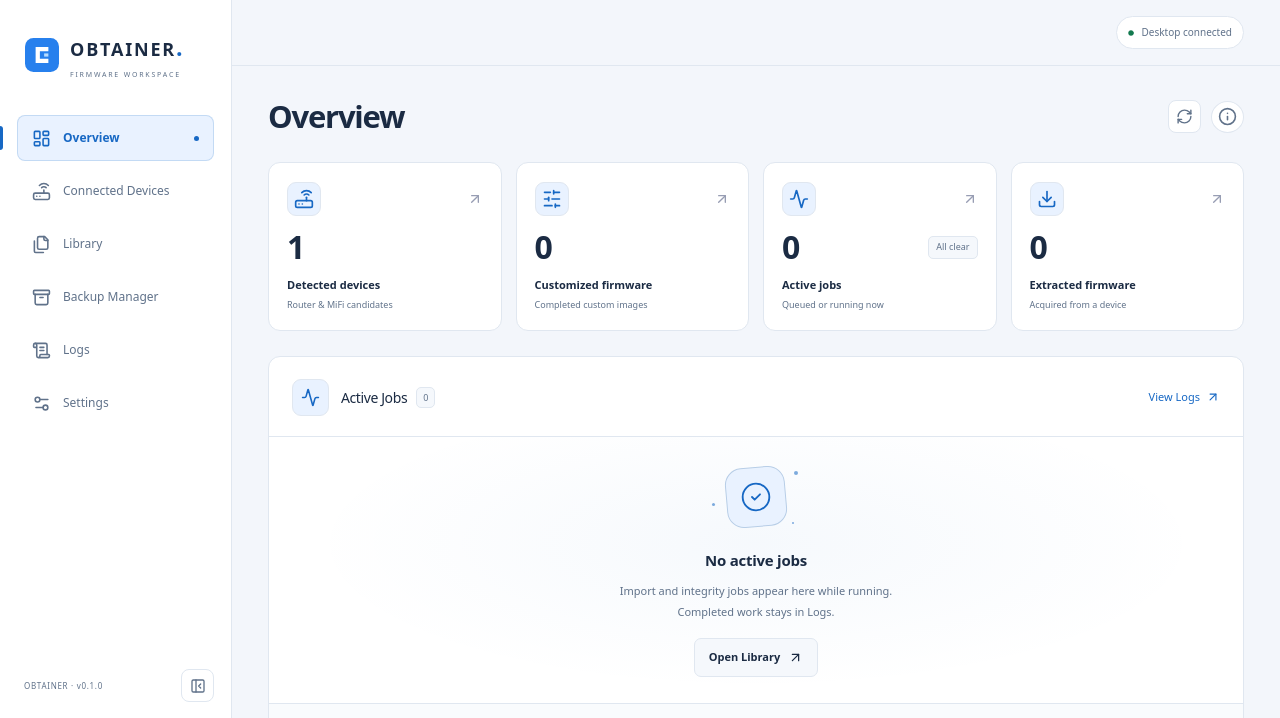
Test case: opens contextual help from Library
The width and height of the screenshot is (1280, 718).
Check: the text "Desktop connected" is shown, box [1142,25,1232,40]
Click the link "Library" at point(67, 244), box [32,234,102,254]
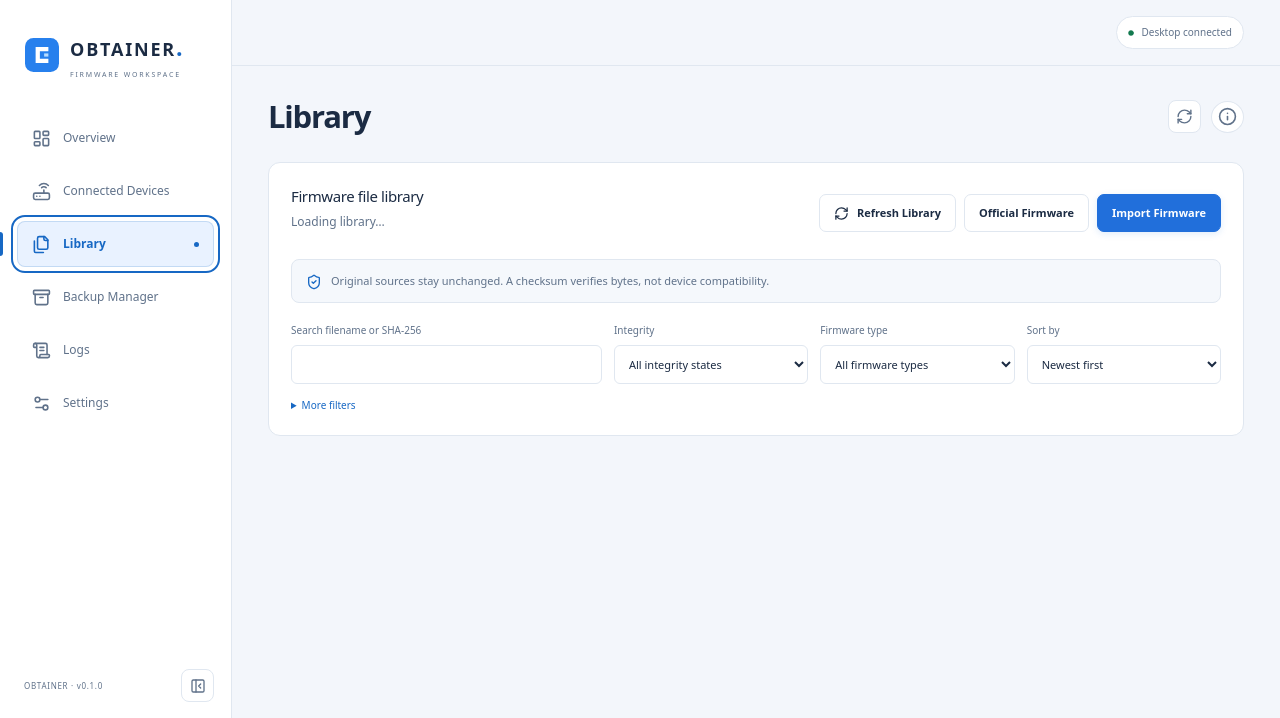
Check: the link "Library" is marked as current, box [17,221,214,267]
Click the button named "How to use this page" at point(1228, 117), box [1211,101,1244,133]
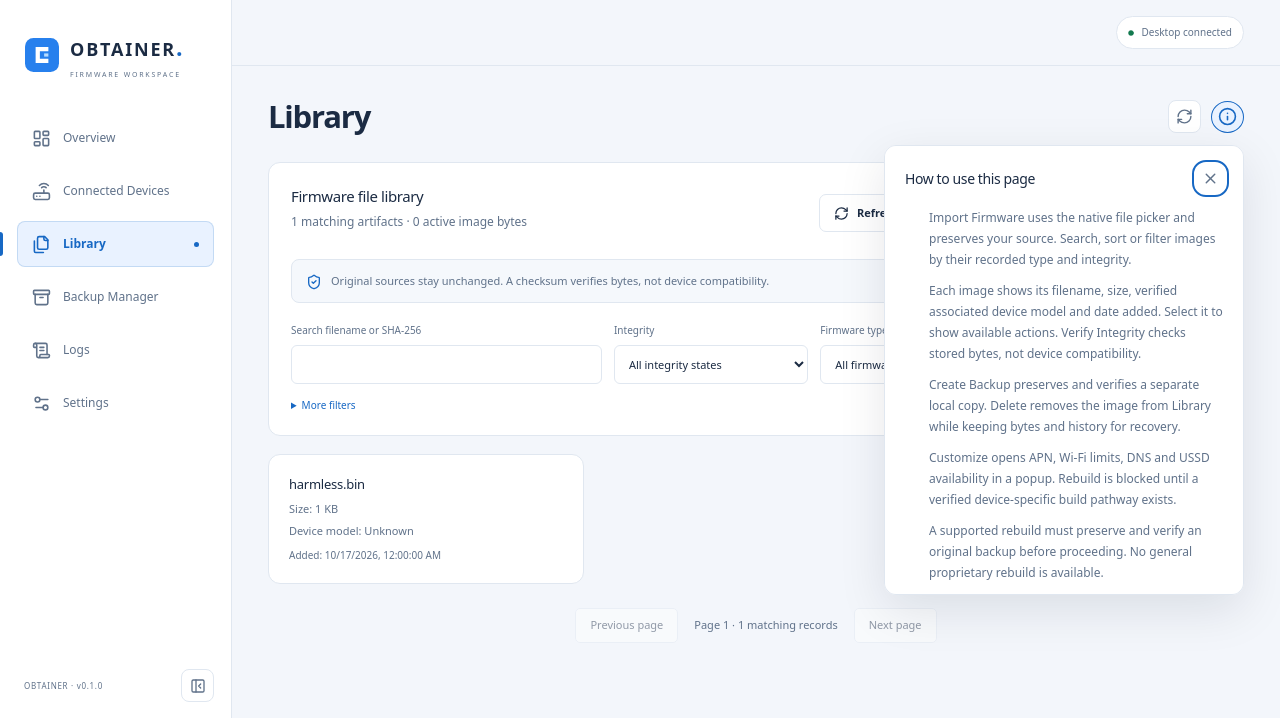
Check: the dialog "How to use this page" is shown, box [884,145,1244,595]
Press Escape
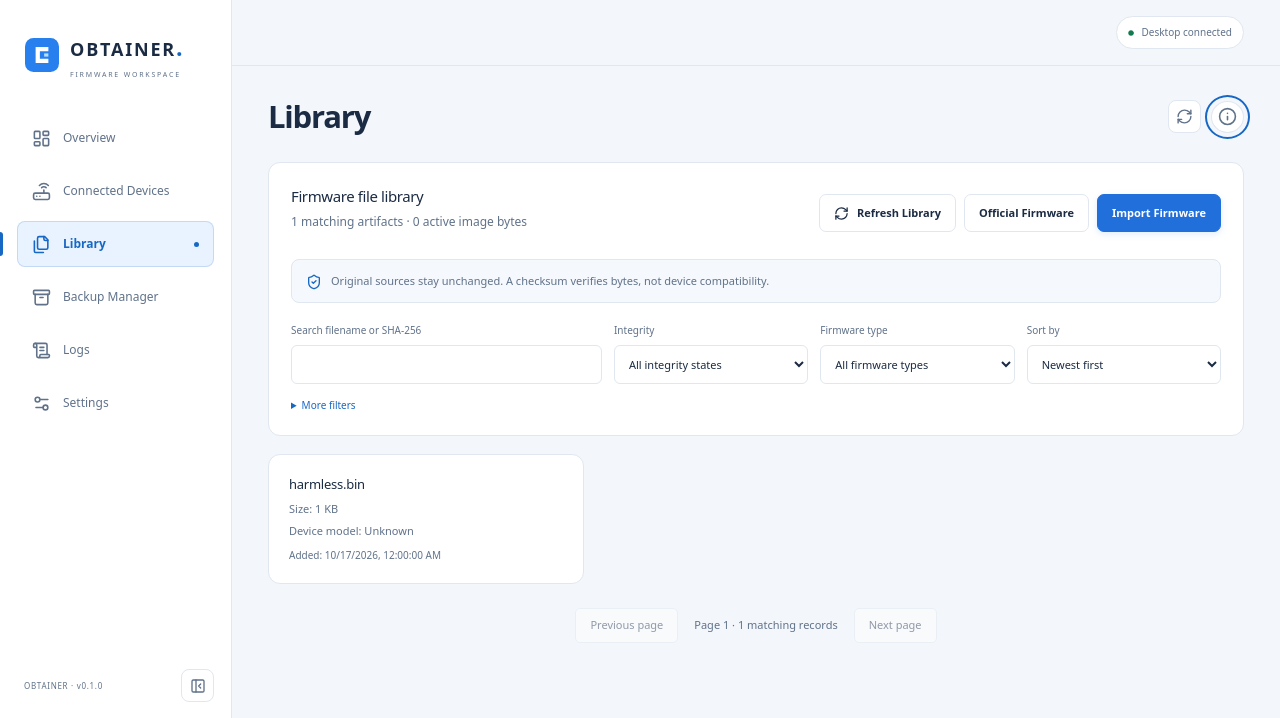
Check: the dialog is gone
